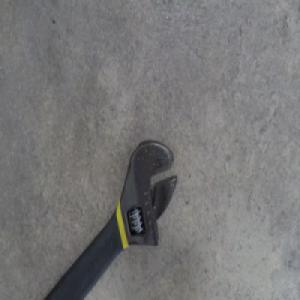AdjustableWrench: (46, 138, 181, 299)
